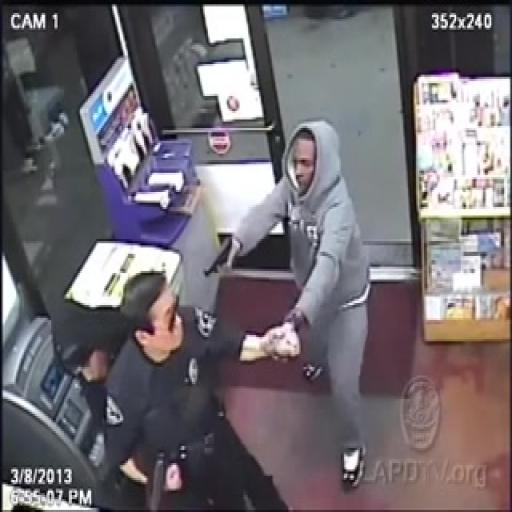Handgun: (198, 230, 242, 278)
